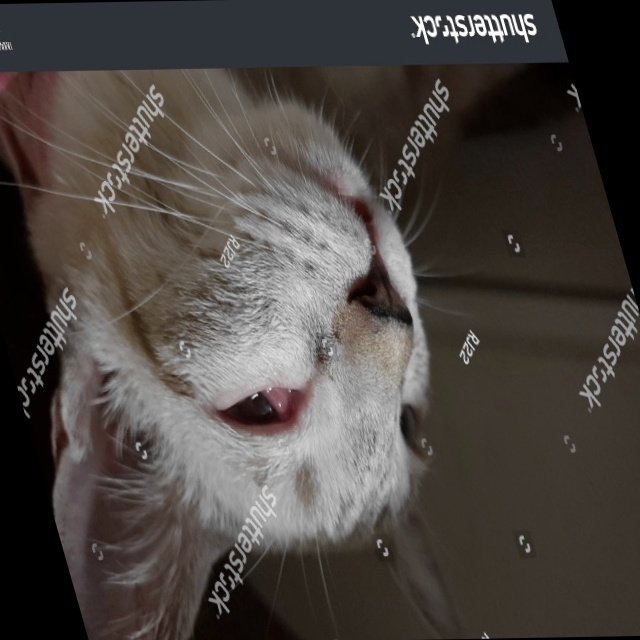eye_infection: (208, 383, 311, 437)
